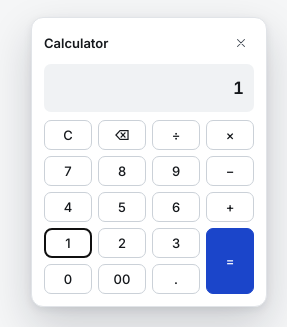
Calculator › deletes, clears and reports division by zero
Earlier steps of the test are not shown.
Click the button "2".
click(122, 243)  # box [98,228,146,258]
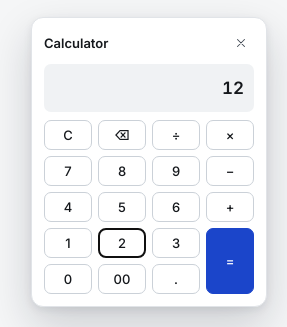
Click the button named "Delete".
click(122, 135)  # box [98,120,146,150]
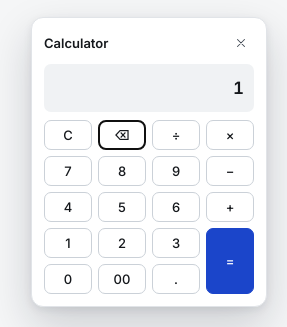
Expected: the text with test id "calc-output" reads "1", [233,78,244,98]
Click the button "÷".
click(176, 135)  # box [152,120,200,150]
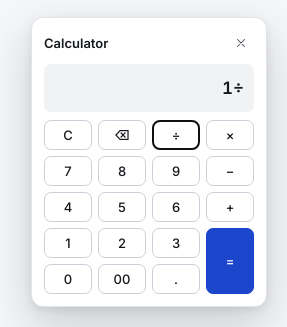
Click the button "0".
click(68, 279)  # box [44,264,92,294]
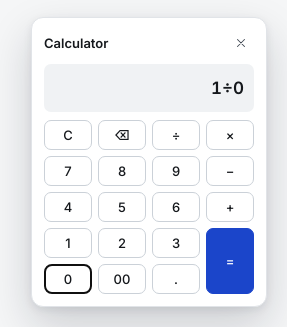
Click the button "=".
click(230, 261)  # box [206,228,254,294]
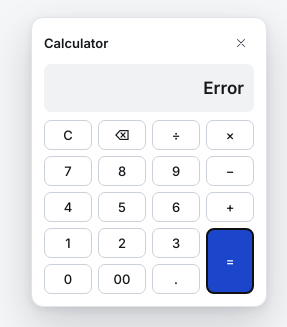
Expected: the text with test id "calc-output" reads "Error", [203,78,244,98]
Click the button "C".
click(68, 135)  # box [44,120,92,150]
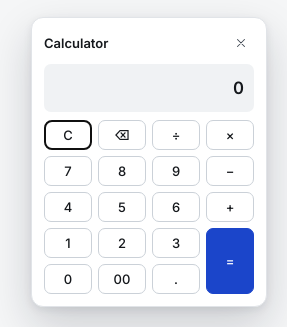
Expected: the text with test id "calc-output" reads "0", [233,78,244,98]
